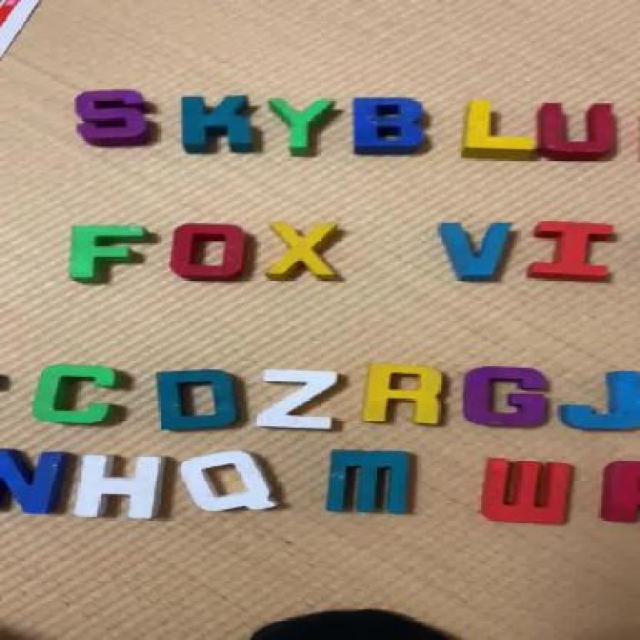B: (354, 97, 426, 157)
C: (30, 364, 125, 425)
D: (153, 370, 242, 430)
F: (68, 226, 146, 280)
G: (457, 367, 548, 428)
H: (73, 454, 169, 518)
I: (527, 222, 615, 280)
J: (564, 370, 639, 432)
K: (180, 96, 266, 152)
L: (457, 100, 537, 154)
M: (323, 448, 415, 512)
O: (170, 223, 255, 279)
Q: (176, 450, 275, 513)
R: (367, 365, 448, 424)
S: (76, 90, 152, 142)
U: (534, 102, 620, 164)
V: (438, 223, 519, 282)
W: (476, 457, 573, 523)
X: (264, 222, 344, 278)
Y: (271, 99, 343, 155)
Z: (258, 370, 338, 432)
